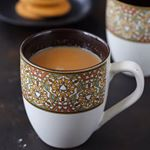cups: (14, 26, 146, 149)
